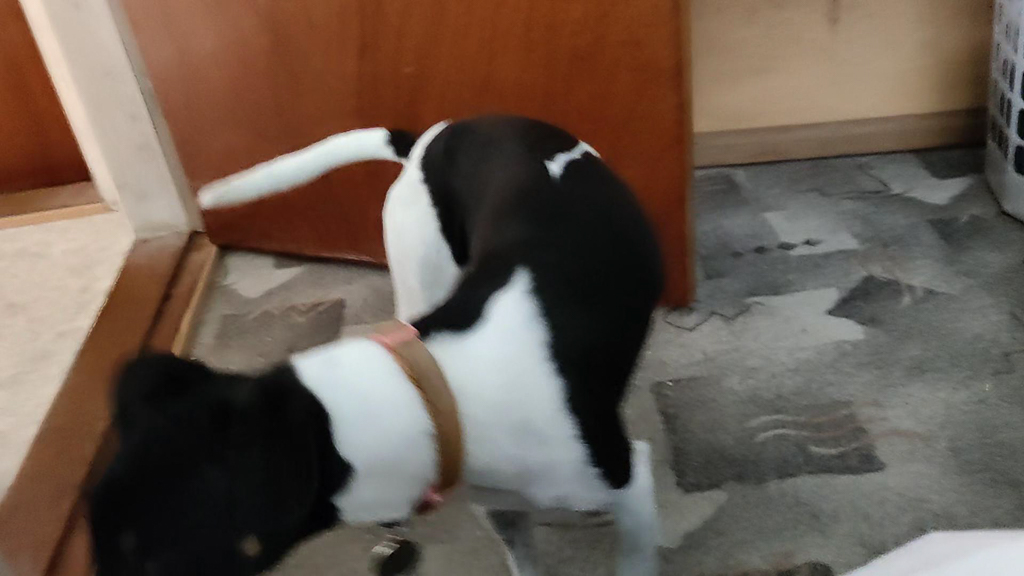Dog: (64, 97, 687, 576)
